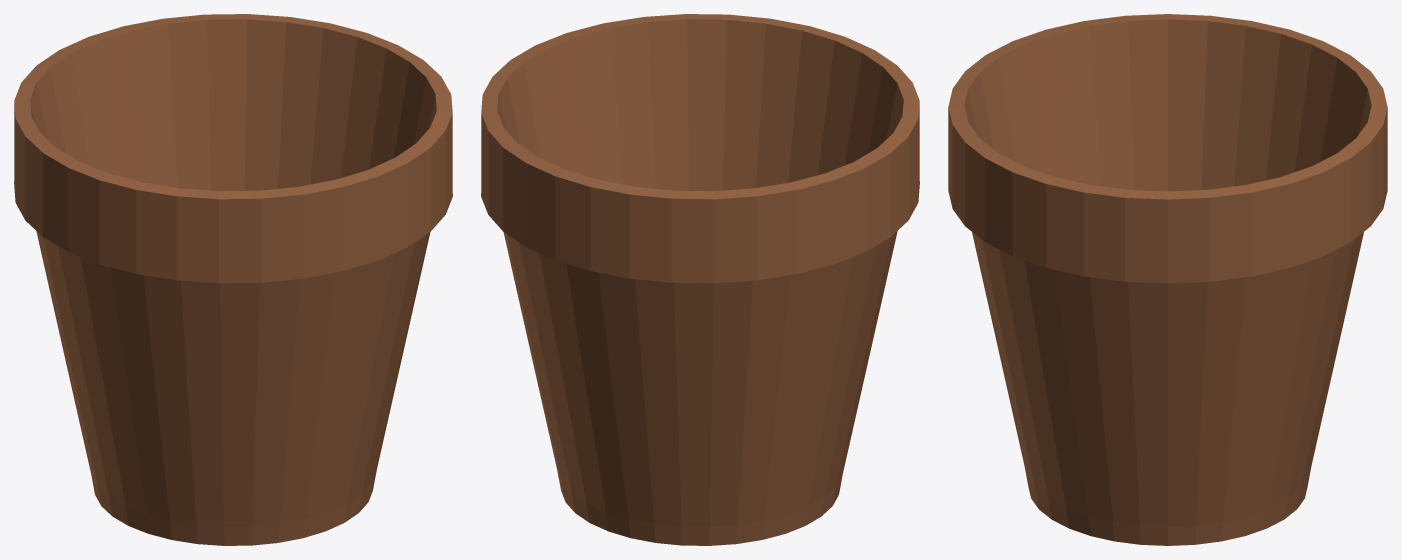
File: Flowerpot.fbx
The picture shows the model from 3 angles, left to right: view 1: azimuth 30°, elevation 25°; view 2: azimuth 150°, elevation 25°; view 3: azimuth 270°, elevation 25°; orthographic projection.
Visible parts, largest first — view 1: Cylinder; view 2: Cylinder; view 3: Cylinder.
Part boxes in pixels (x1,y1,x2,y2): Cylinder: [14, 14, 452, 545]; Cylinder: [481, 14, 919, 545]; Cylinder: [948, 14, 1387, 545].
Size of the model in its own units: 209 by 200 by 209.
